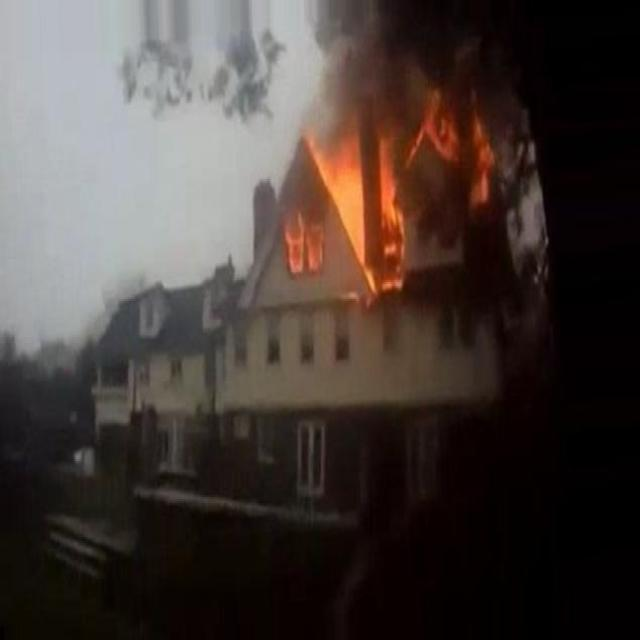Fire: (328, 154, 363, 232)
